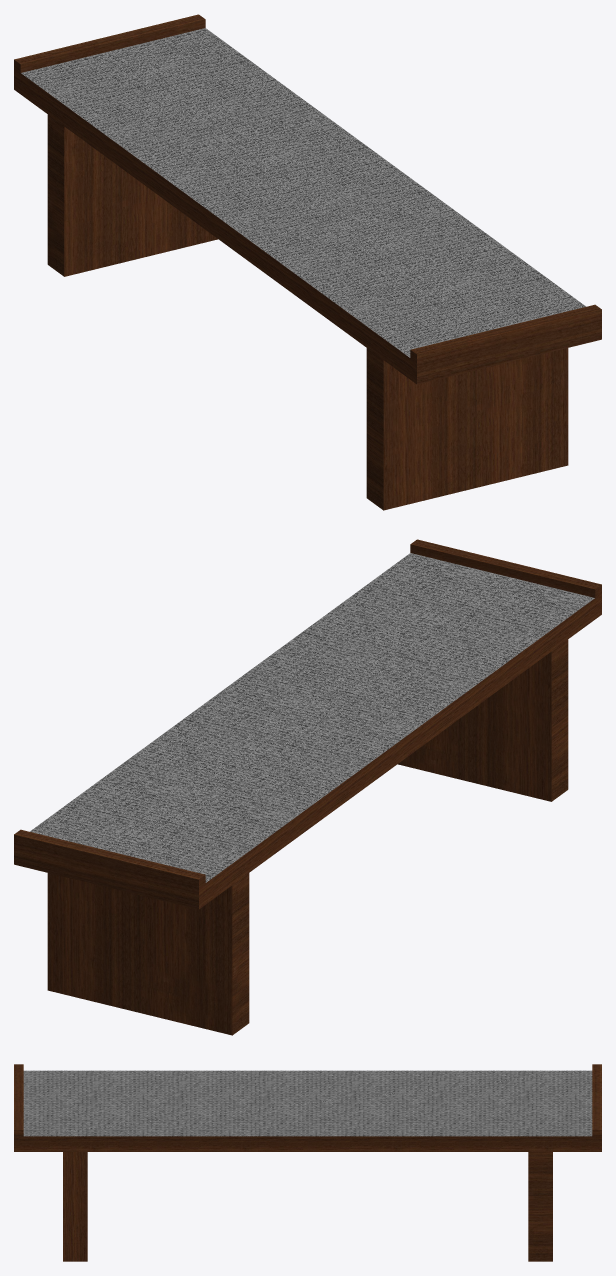
File: BancoLazer.dae
The picture shows the model from 3 angles, top to bottom: view 1: azimuth 30°, elevation 25°; view 2: azimuth 150°, elevation 25°; view 3: azimuth 270°, elevation 25°; orthographic projection. The views are drawn at different scales.
Parts seen in each view (by area): view 1: instance_0 (×2); view 2: instance_0 (×2); view 3: instance_0 (×2).
Part boxes in pixels (x1,y1,x2,y2): instance_0 (×2): (14, 14, 601, 510); instance_0 (×2): (14, 539, 601, 1035); instance_0 (×2): (14, 1064, 601, 1261).
Bounding box in the file's own units: 17.72 × 66.93 × 16.54.
2 materials, 2 textured.
